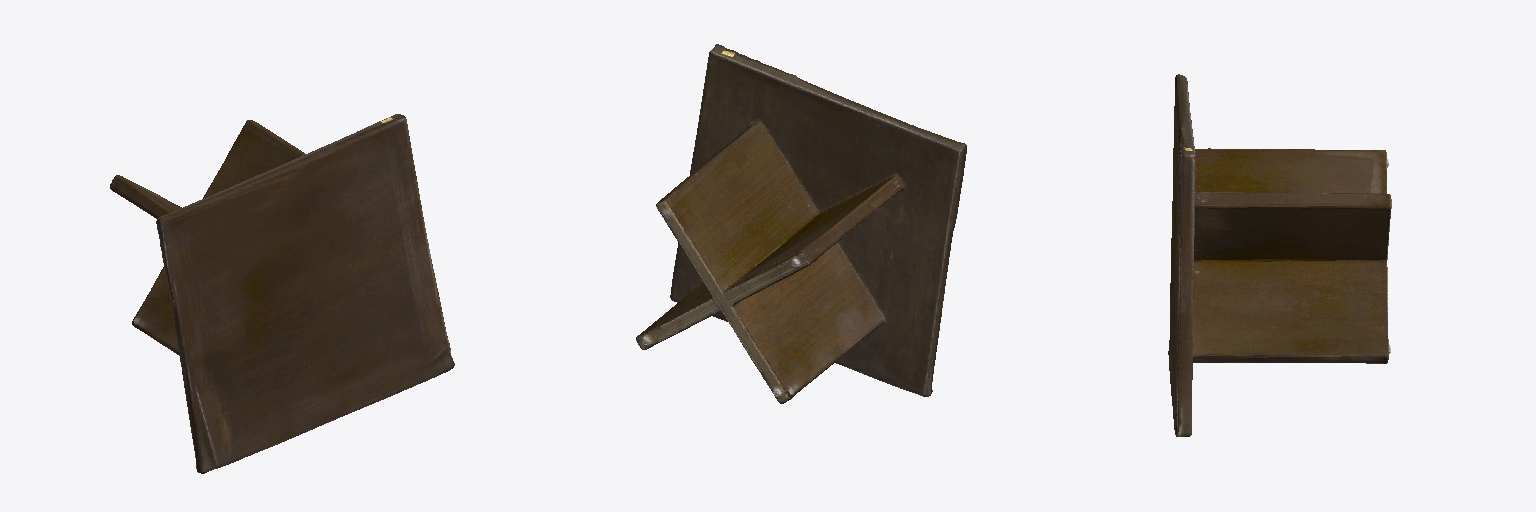
The picture shows the model from 3 angles: view 1: azimuth 30°, elevation 25°; view 2: azimuth 150°, elevation 25°; view 3: azimuth 270°, elevation 25°; orthographic projection.
Size of the model in its own units: 706 by 695 by 463.
Materials: 2 (1 with a texture image).